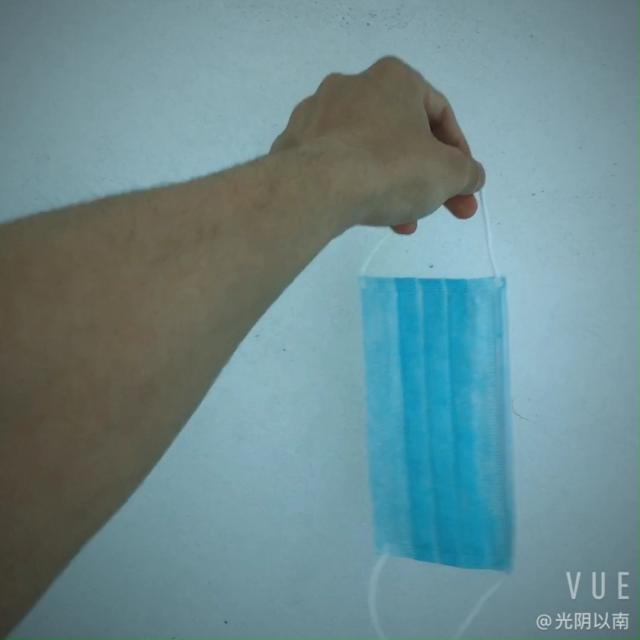non-organic waste: (337, 237, 562, 574)
